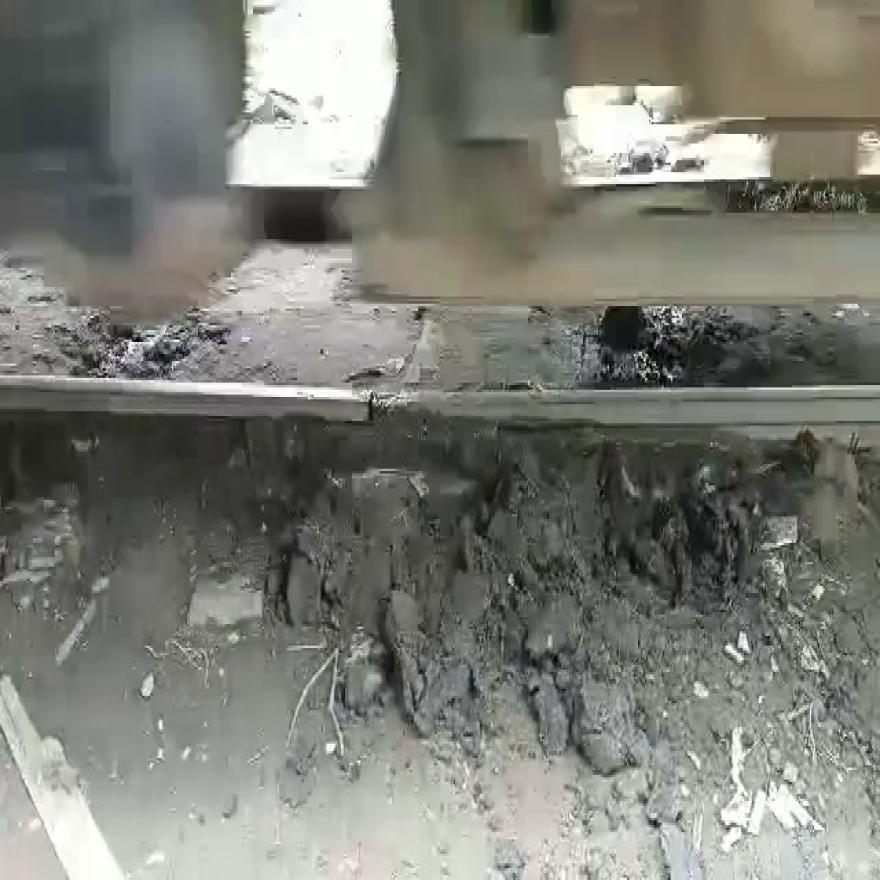railway-gap: (340, 360, 405, 462)
